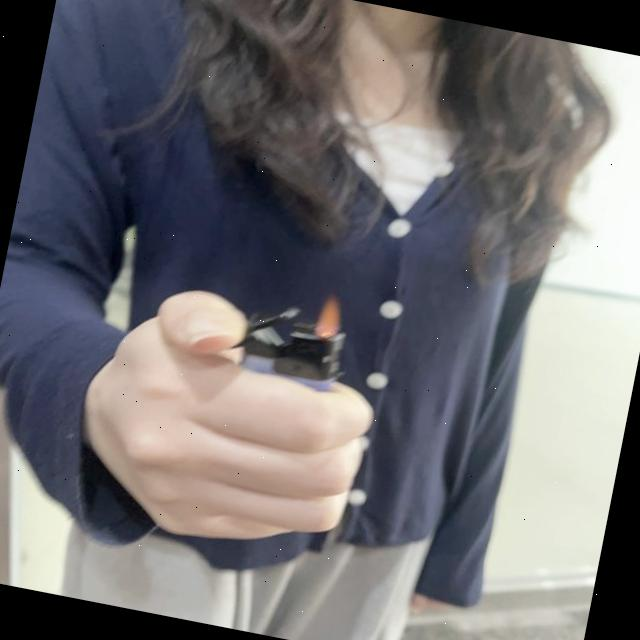fire: (306, 292, 351, 342)
